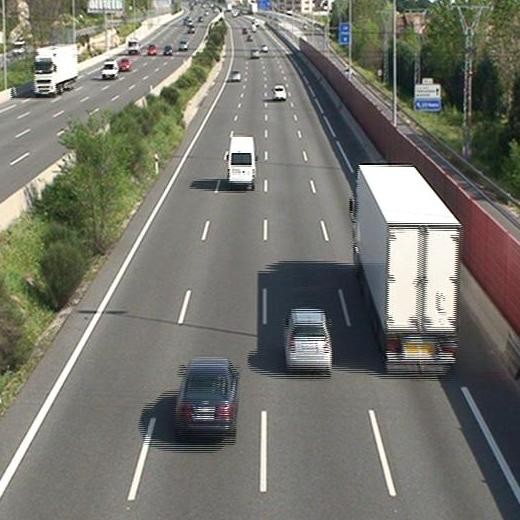car: (175, 359, 239, 432), (283, 310, 332, 370), (272, 85, 285, 99), (229, 71, 239, 82), (250, 49, 260, 57)
truck: (354, 165, 461, 373)
van: (227, 137, 256, 185)
